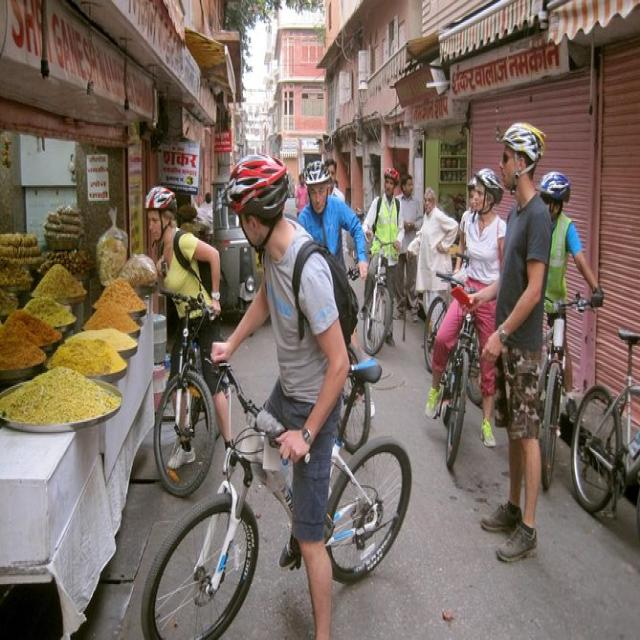bicycle: (142, 157, 411, 639), (146, 186, 230, 496), (362, 167, 404, 354)
